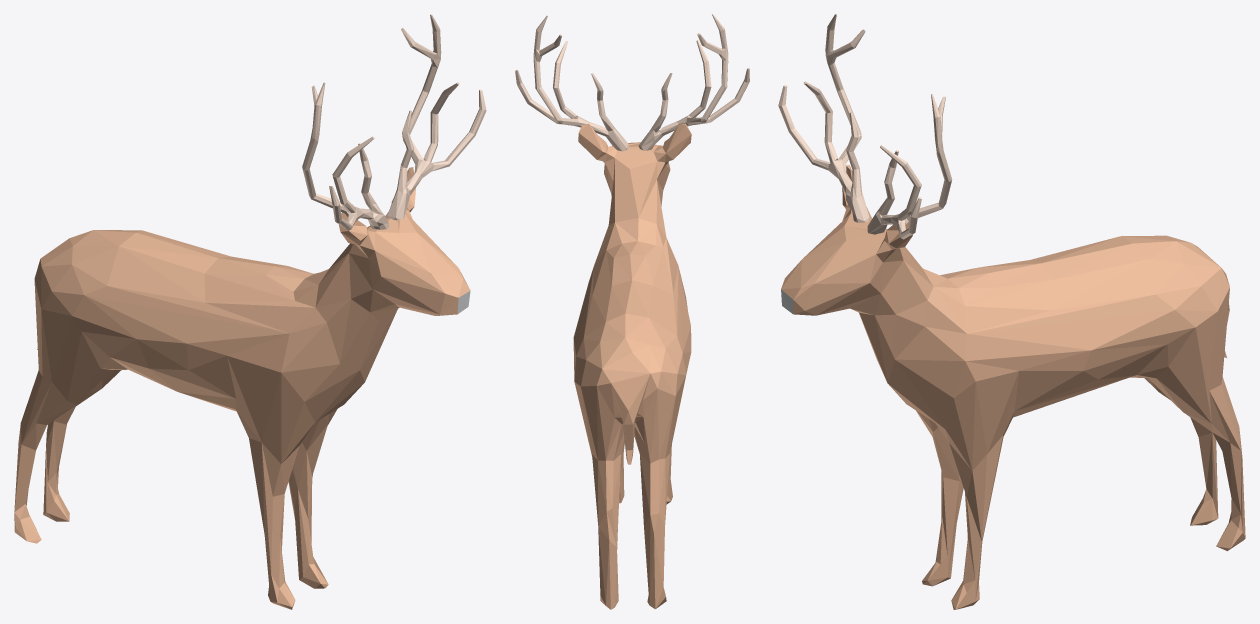
Rendered from stag.glb.
The picture shows the model from 3 angles, left to right: view 1: azimuth 30°, elevation 25°; view 2: azimuth 150°, elevation 25°; view 3: azimuth 270°, elevation 25°; orthographic projection. The views are drawn at different scales.
Visible parts, largest first — view 1: Plane.014_0; view 2: Plane.014_0; view 3: Plane.014_0.
Boxes of the visible parts, left/top/right/bottom form: Plane.014_0: left=14, top=14, right=486, bottom=609; Plane.014_0: left=515, top=14, right=749, bottom=609; Plane.014_0: left=778, top=14, right=1245, bottom=609.
Bounding box in the file's own units: 9.37 × 15.45 × 11.54.
Materials: 1 (1 with a texture image).
